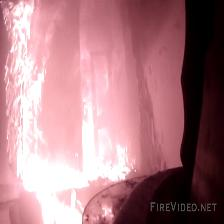fire: (3, 3, 113, 224)
